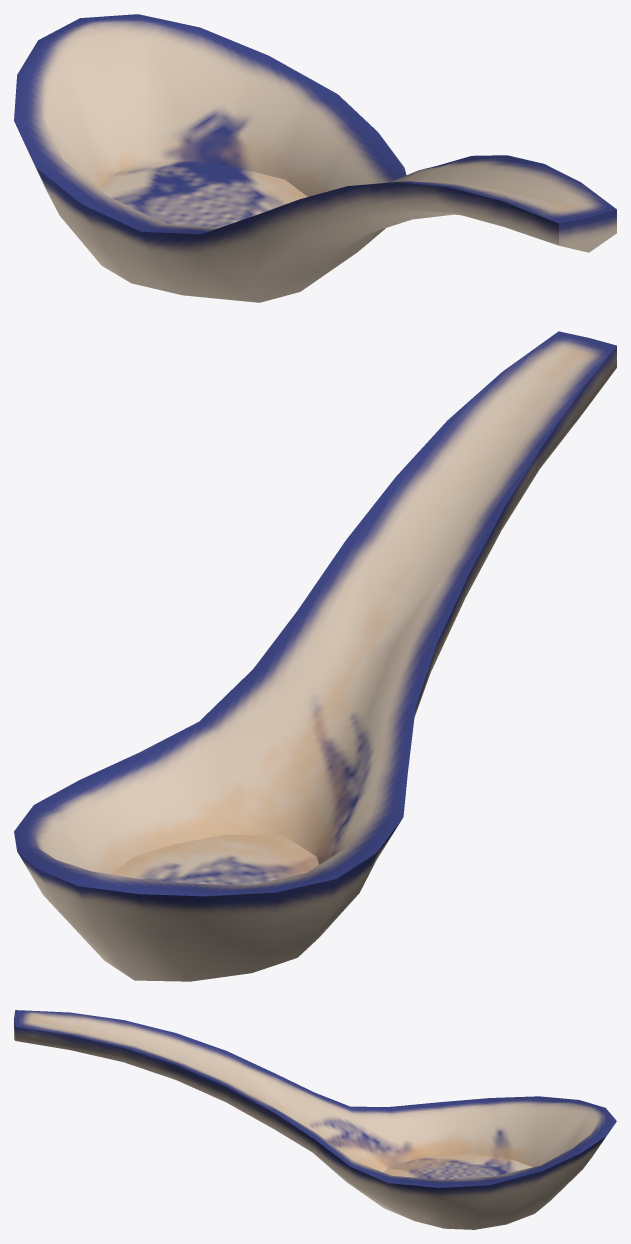
The model's file is M_SoupSpoon_01.FBX.
3 renders of one model, top to bottom at view 1: azimuth 30°, elevation 25°; view 2: azimuth 150°, elevation 25°; view 3: azimuth 270°, elevation 25°, orthographic. The views are drawn at different scales.
Visible parts, largest first — view 1: M_SoupSpoon_01; view 2: M_SoupSpoon_01; view 3: M_SoupSpoon_01.
Boxes of the visible parts, box(x1,y1,x2,y2) form: M_SoupSpoon_01: box(14, 14, 616, 302); M_SoupSpoon_01: box(14, 331, 616, 981); M_SoupSpoon_01: box(14, 1010, 616, 1229).
Bounding box in the file's own units: 3.54 × 10.36 × 3.47.
